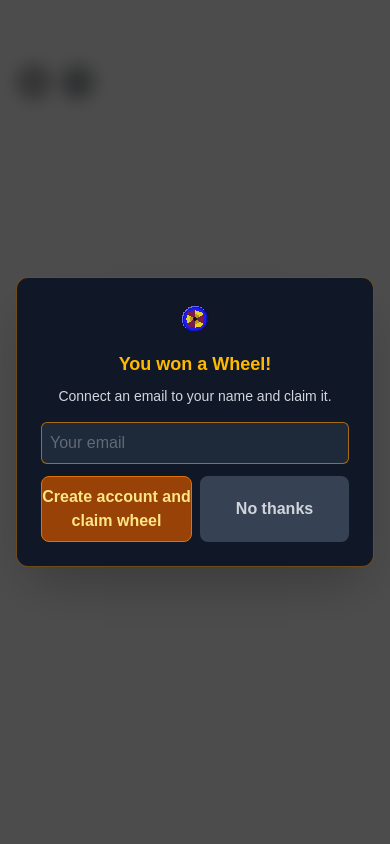
LobbyOverlay (WheelClaimNudge gate) › dismisses the wheel nudge and does not show it again for the same state
expect the heading "You won a Wheel!" is shown: met, box top-left (119, 354), bottom-right (271, 374)
What coordinates should you click on to do the following:
click the button "No thanks"
I would click on:
 (274, 509)
Its box is top-left (200, 476), bottom-right (349, 542).
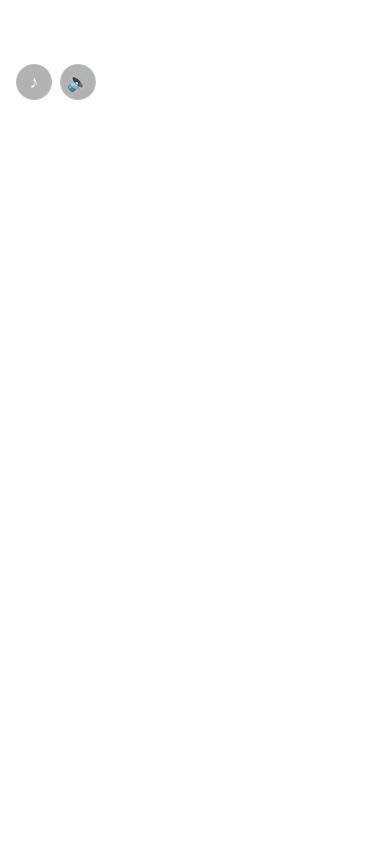
expect the heading "You won a Wheel" is gone: met
